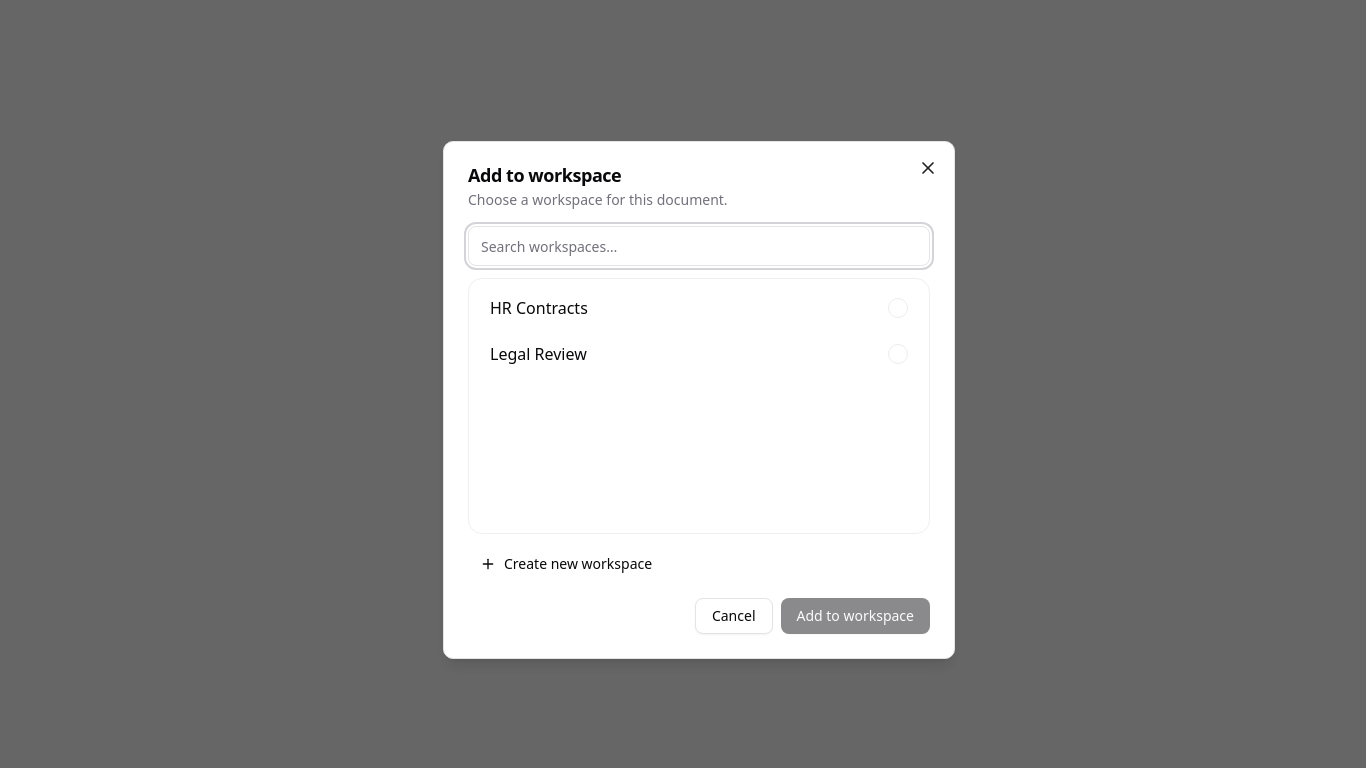
Scenario: AddToWorkspaceDialog › enables the Add button only when a workspace is selected
Expected: the button "Add to workspace" is disabled, [780,598,930,634]
Click the button "HR Contracts". click: (539, 308)
box: [477,287,921,329]
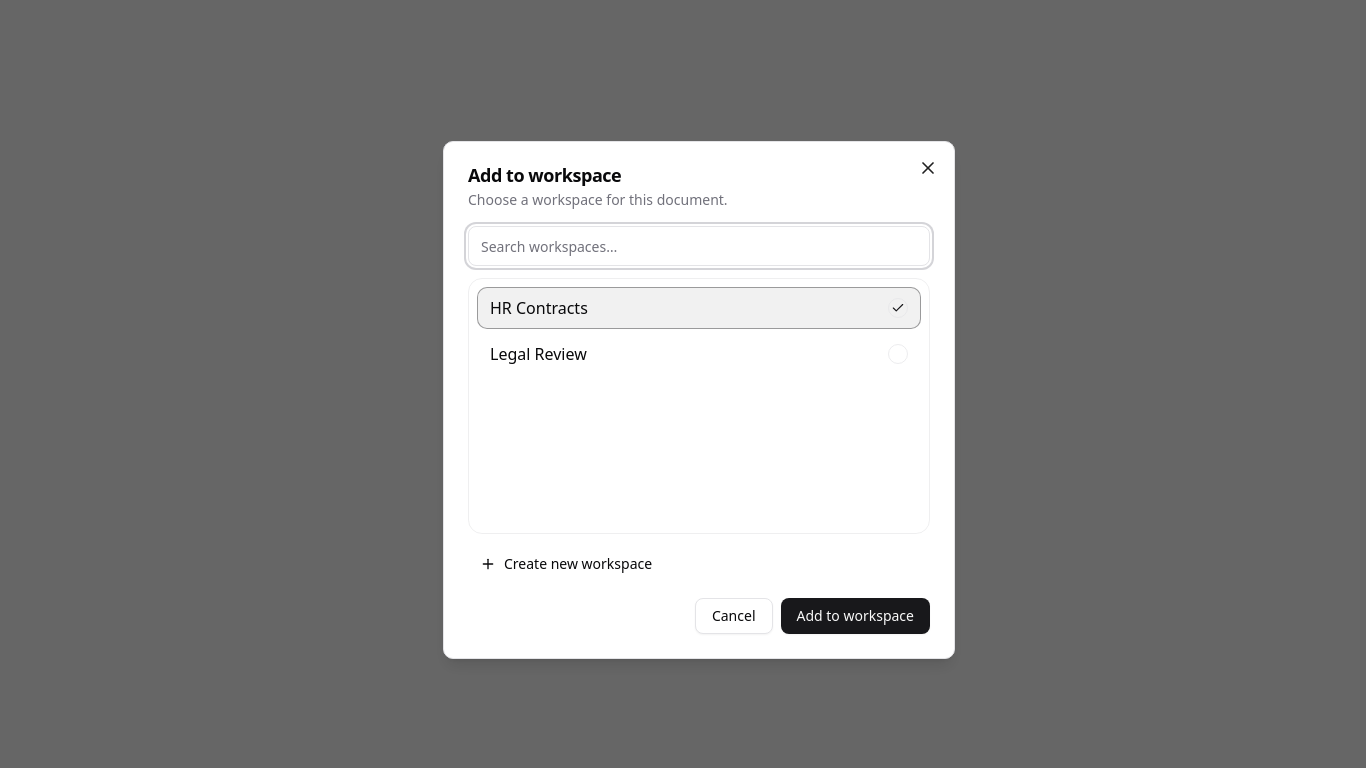
Expected: the button "Add to workspace" is enabled, [780,598,930,634]
